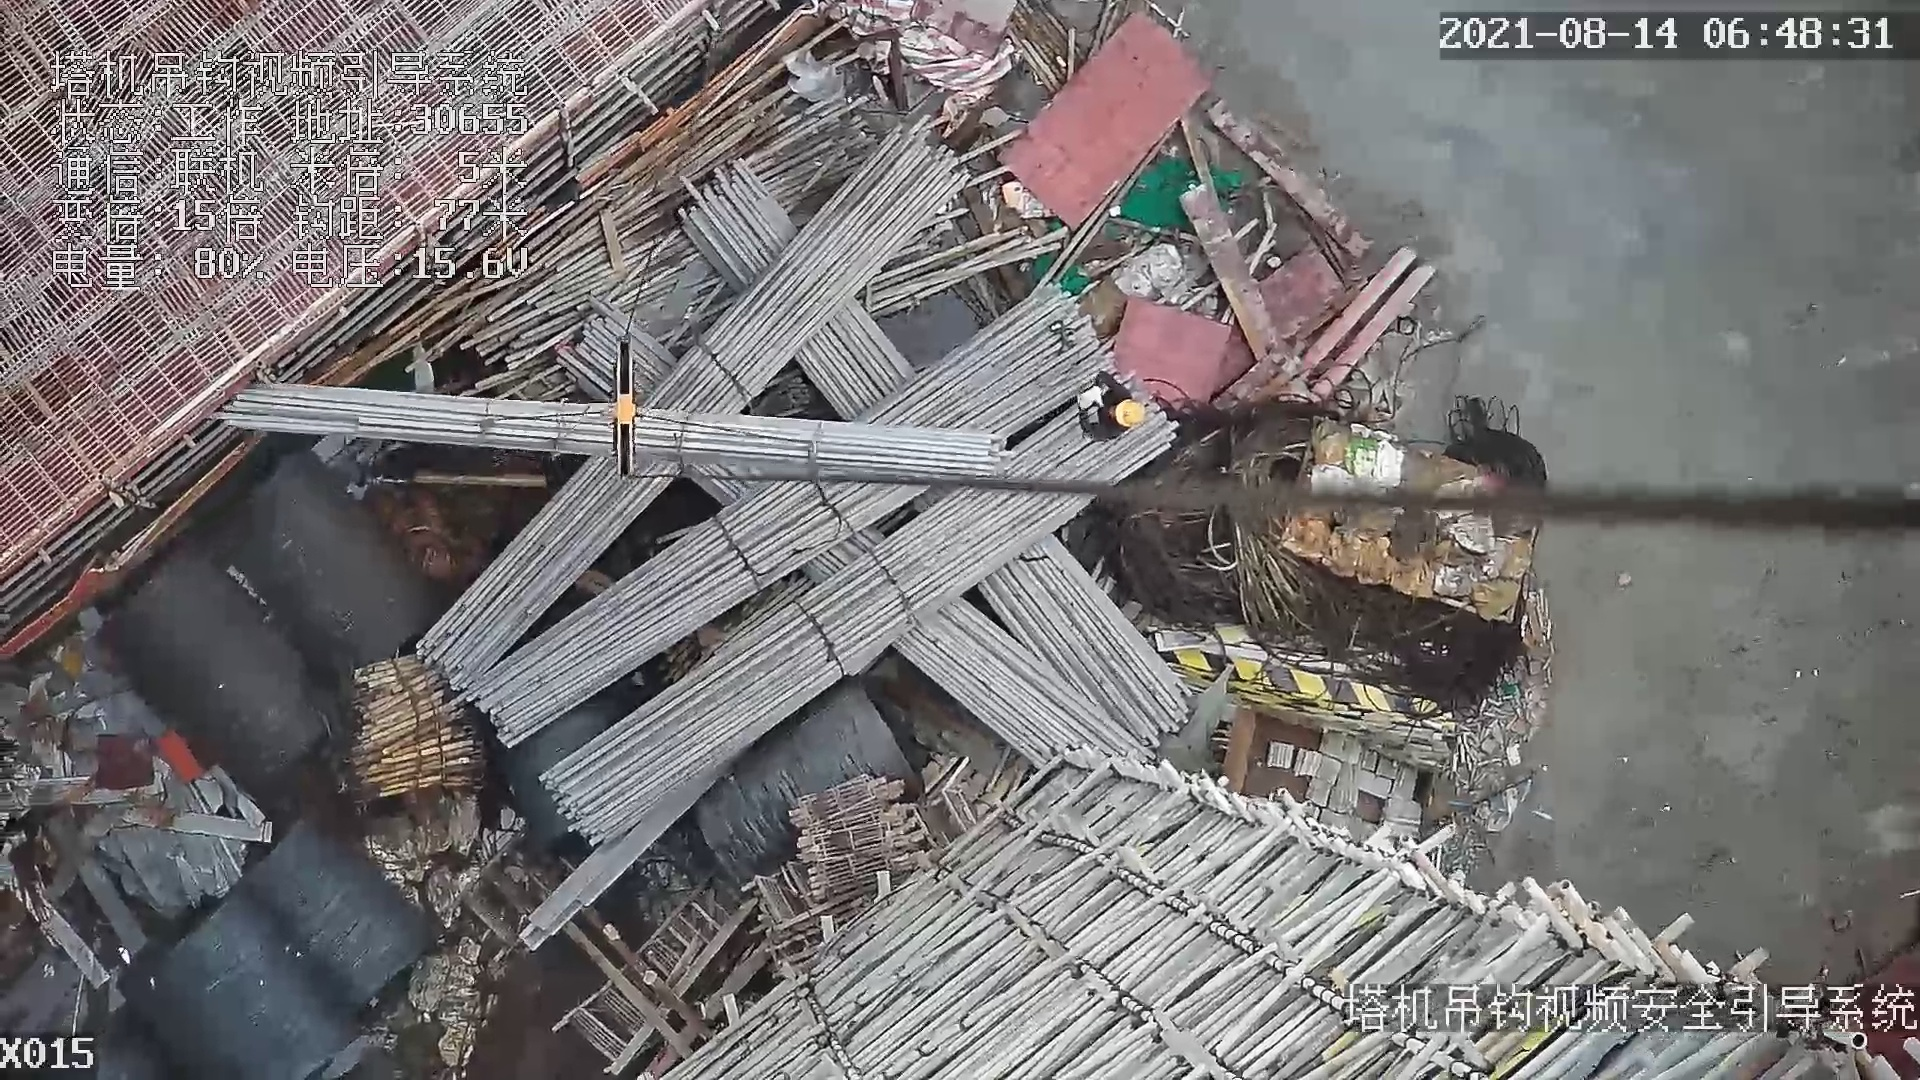board: (999, 6, 1221, 222)
helmet: (1114, 394, 1152, 431)
hook: (604, 333, 644, 483)
person: (1073, 362, 1147, 444)
scaffold: (338, 656, 484, 797)
